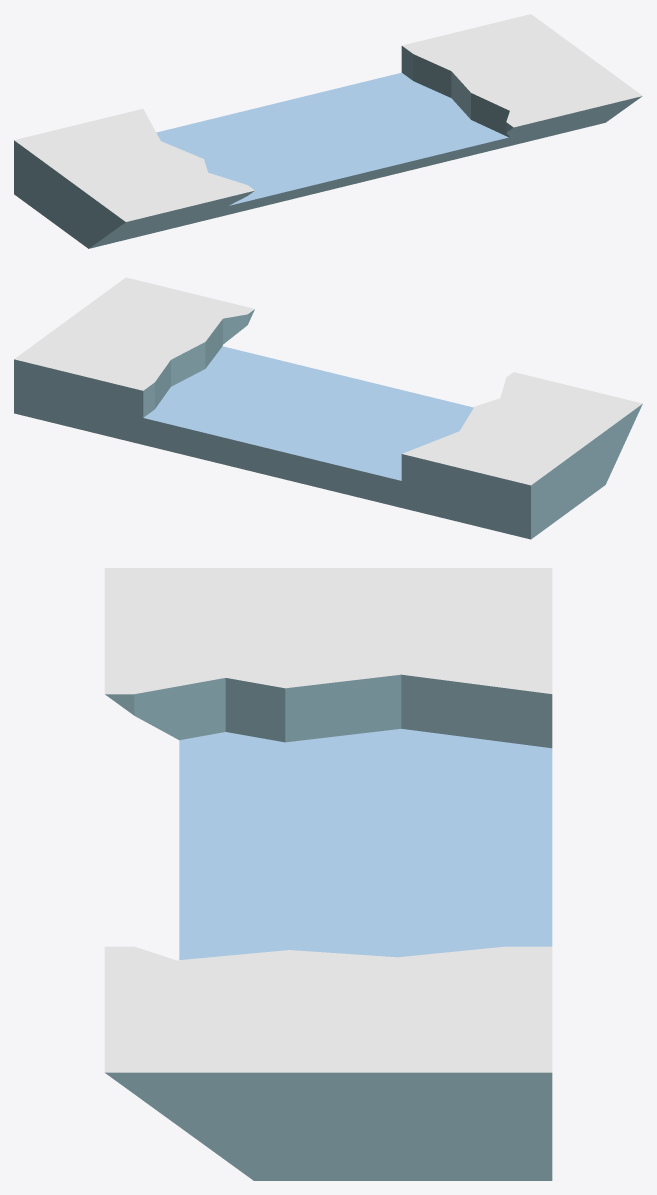
File: Terrain_Modular_Tiles_Snow_Ice_Cliff_Edge_River_Outer_01.fbx
The picture shows the model from 3 angles, top to bottom: view 1: azimuth 30°, elevation 25°; view 2: azimuth 150°, elevation 25°; view 3: azimuth 270°, elevation 25°; orthographic projection. The views are drawn at different scales.
Visible parts, largest first — view 1: Terrain_Modular_Tiles_Snow_Ice_Cliff_Edge_River_Outer_01; view 2: Terrain_Modular_Tiles_Snow_Ice_Cliff_Edge_River_Outer_01; view 3: Terrain_Modular_Tiles_Snow_Ice_Cliff_Edge_River_Outer_01.
Part boxes in pixels (box(x1,y1,x2,y2)): Terrain_Modular_Tiles_Snow_Ice_Cliff_Edge_River_Outer_01: box(14, 14, 642, 248); Terrain_Modular_Tiles_Snow_Ice_Cliff_Edge_River_Outer_01: box(14, 277, 642, 539); Terrain_Modular_Tiles_Snow_Ice_Cliff_Edge_River_Outer_01: box(104, 568, 552, 1180).
Bounding box in the file's own units: 118 × 11.81 × 44.29.
